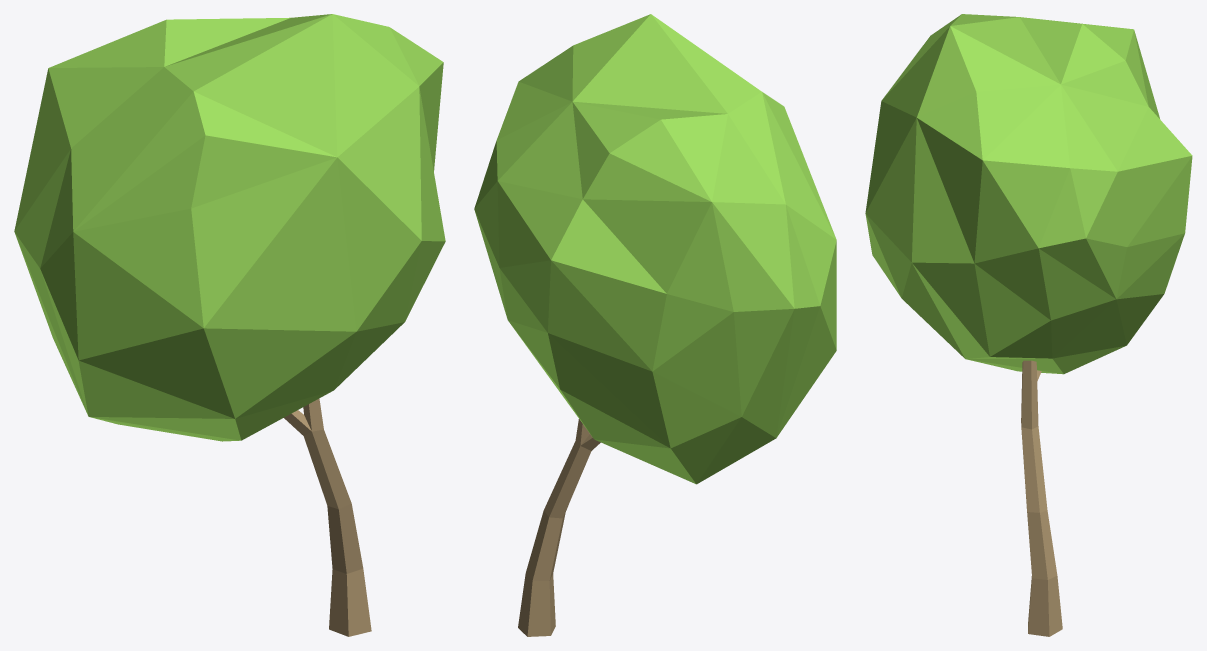
Rendered from Apple_Tree_m_05.fbx.
The picture shows the model from 3 angles, left to right: view 1: azimuth 30°, elevation 25°; view 2: azimuth 150°, elevation 25°; view 3: azimuth 270°, elevation 25°; orthographic projection. The views are drawn at different scales.
Visible parts, largest first — view 1: Apple_Tree_m_05; view 2: Apple_Tree_m_05; view 3: Apple_Tree_m_05.
Part boxes in pixels (x1,y1,x2,y2): Apple_Tree_m_05: (14, 14, 445, 636); Apple_Tree_m_05: (474, 14, 836, 636); Apple_Tree_m_05: (865, 14, 1192, 636).
Bounding box in the file's own units: 436 × 752 × 389.
